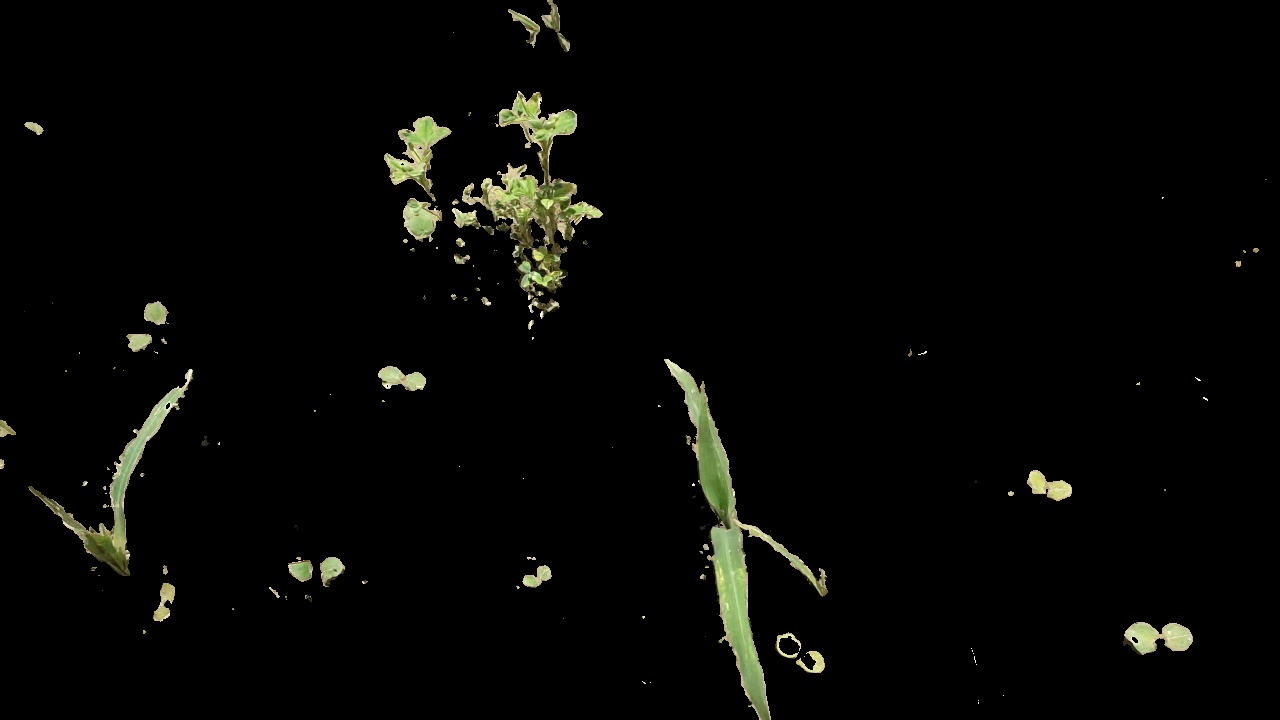crop: (636, 348, 845, 611), (23, 365, 193, 576)
weed: (350, 75, 619, 334), (500, 1, 584, 55), (1117, 614, 1201, 659), (276, 544, 356, 591), (123, 295, 176, 360), (776, 628, 830, 677), (1021, 464, 1080, 502), (377, 357, 431, 396), (513, 563, 558, 591), (149, 581, 180, 621)
